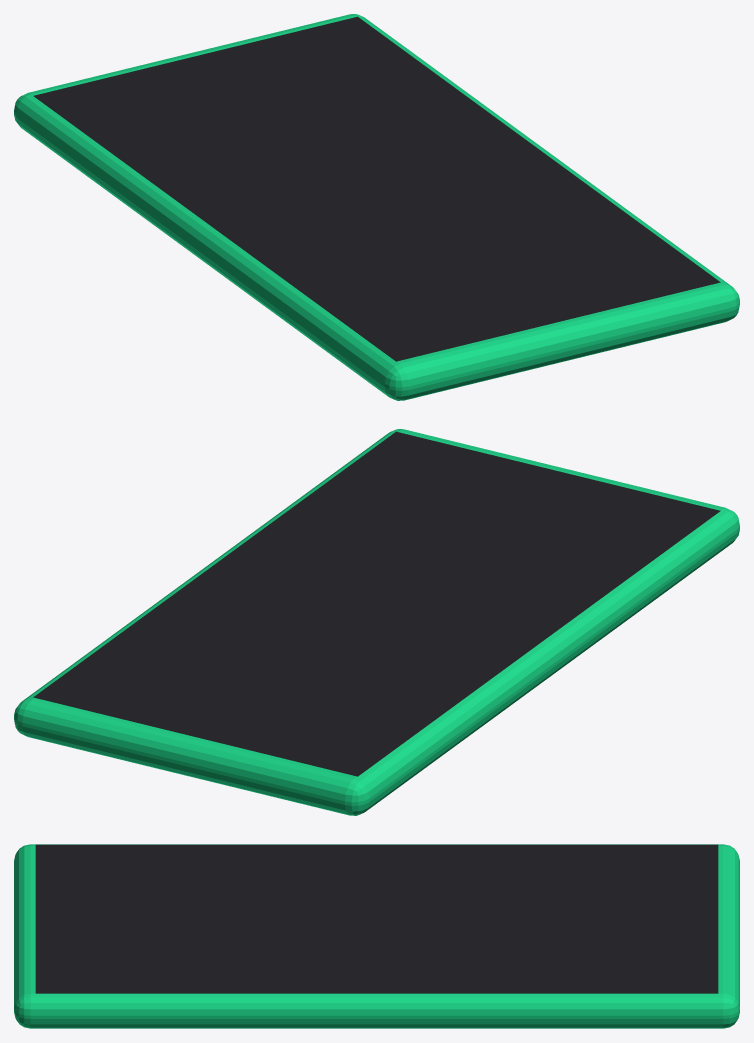
The model's file is Phone_844.glb.
3 renders of one model, top to bottom at view 1: azimuth 30°, elevation 25°; view 2: azimuth 150°, elevation 25°; view 3: azimuth 270°, elevation 25°, orthographic. The views are drawn at different scales.
Visible parts, largest first — view 1: Phone_Screen, Phone_Body; view 2: Phone_Screen, Phone_Body; view 3: Phone_Screen, Phone_Body.
Part boxes in pixels (<box>): Phone_Screen: <box>33,16,720,361</box>; Phone_Body: <box>14,14,739,400</box>; Phone_Screen: <box>33,431,720,776</box>; Phone_Body: <box>14,429,739,815</box>; Phone_Screen: <box>35,844,718,993</box>; Phone_Body: <box>14,844,739,1028</box>.
Bounding box in the file's own units: 0.0746 × 0.0073 × 0.1414.
